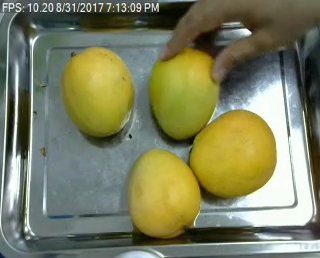Mango: (186, 108, 280, 196), (147, 44, 221, 141), (59, 44, 133, 138), (124, 147, 198, 240)
